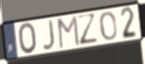2: (119, 6, 138, 42)
J: (41, 18, 56, 52)
M: (57, 14, 81, 50)
O: (17, 21, 38, 56), (98, 11, 118, 42)
Z: (76, 12, 100, 48)
